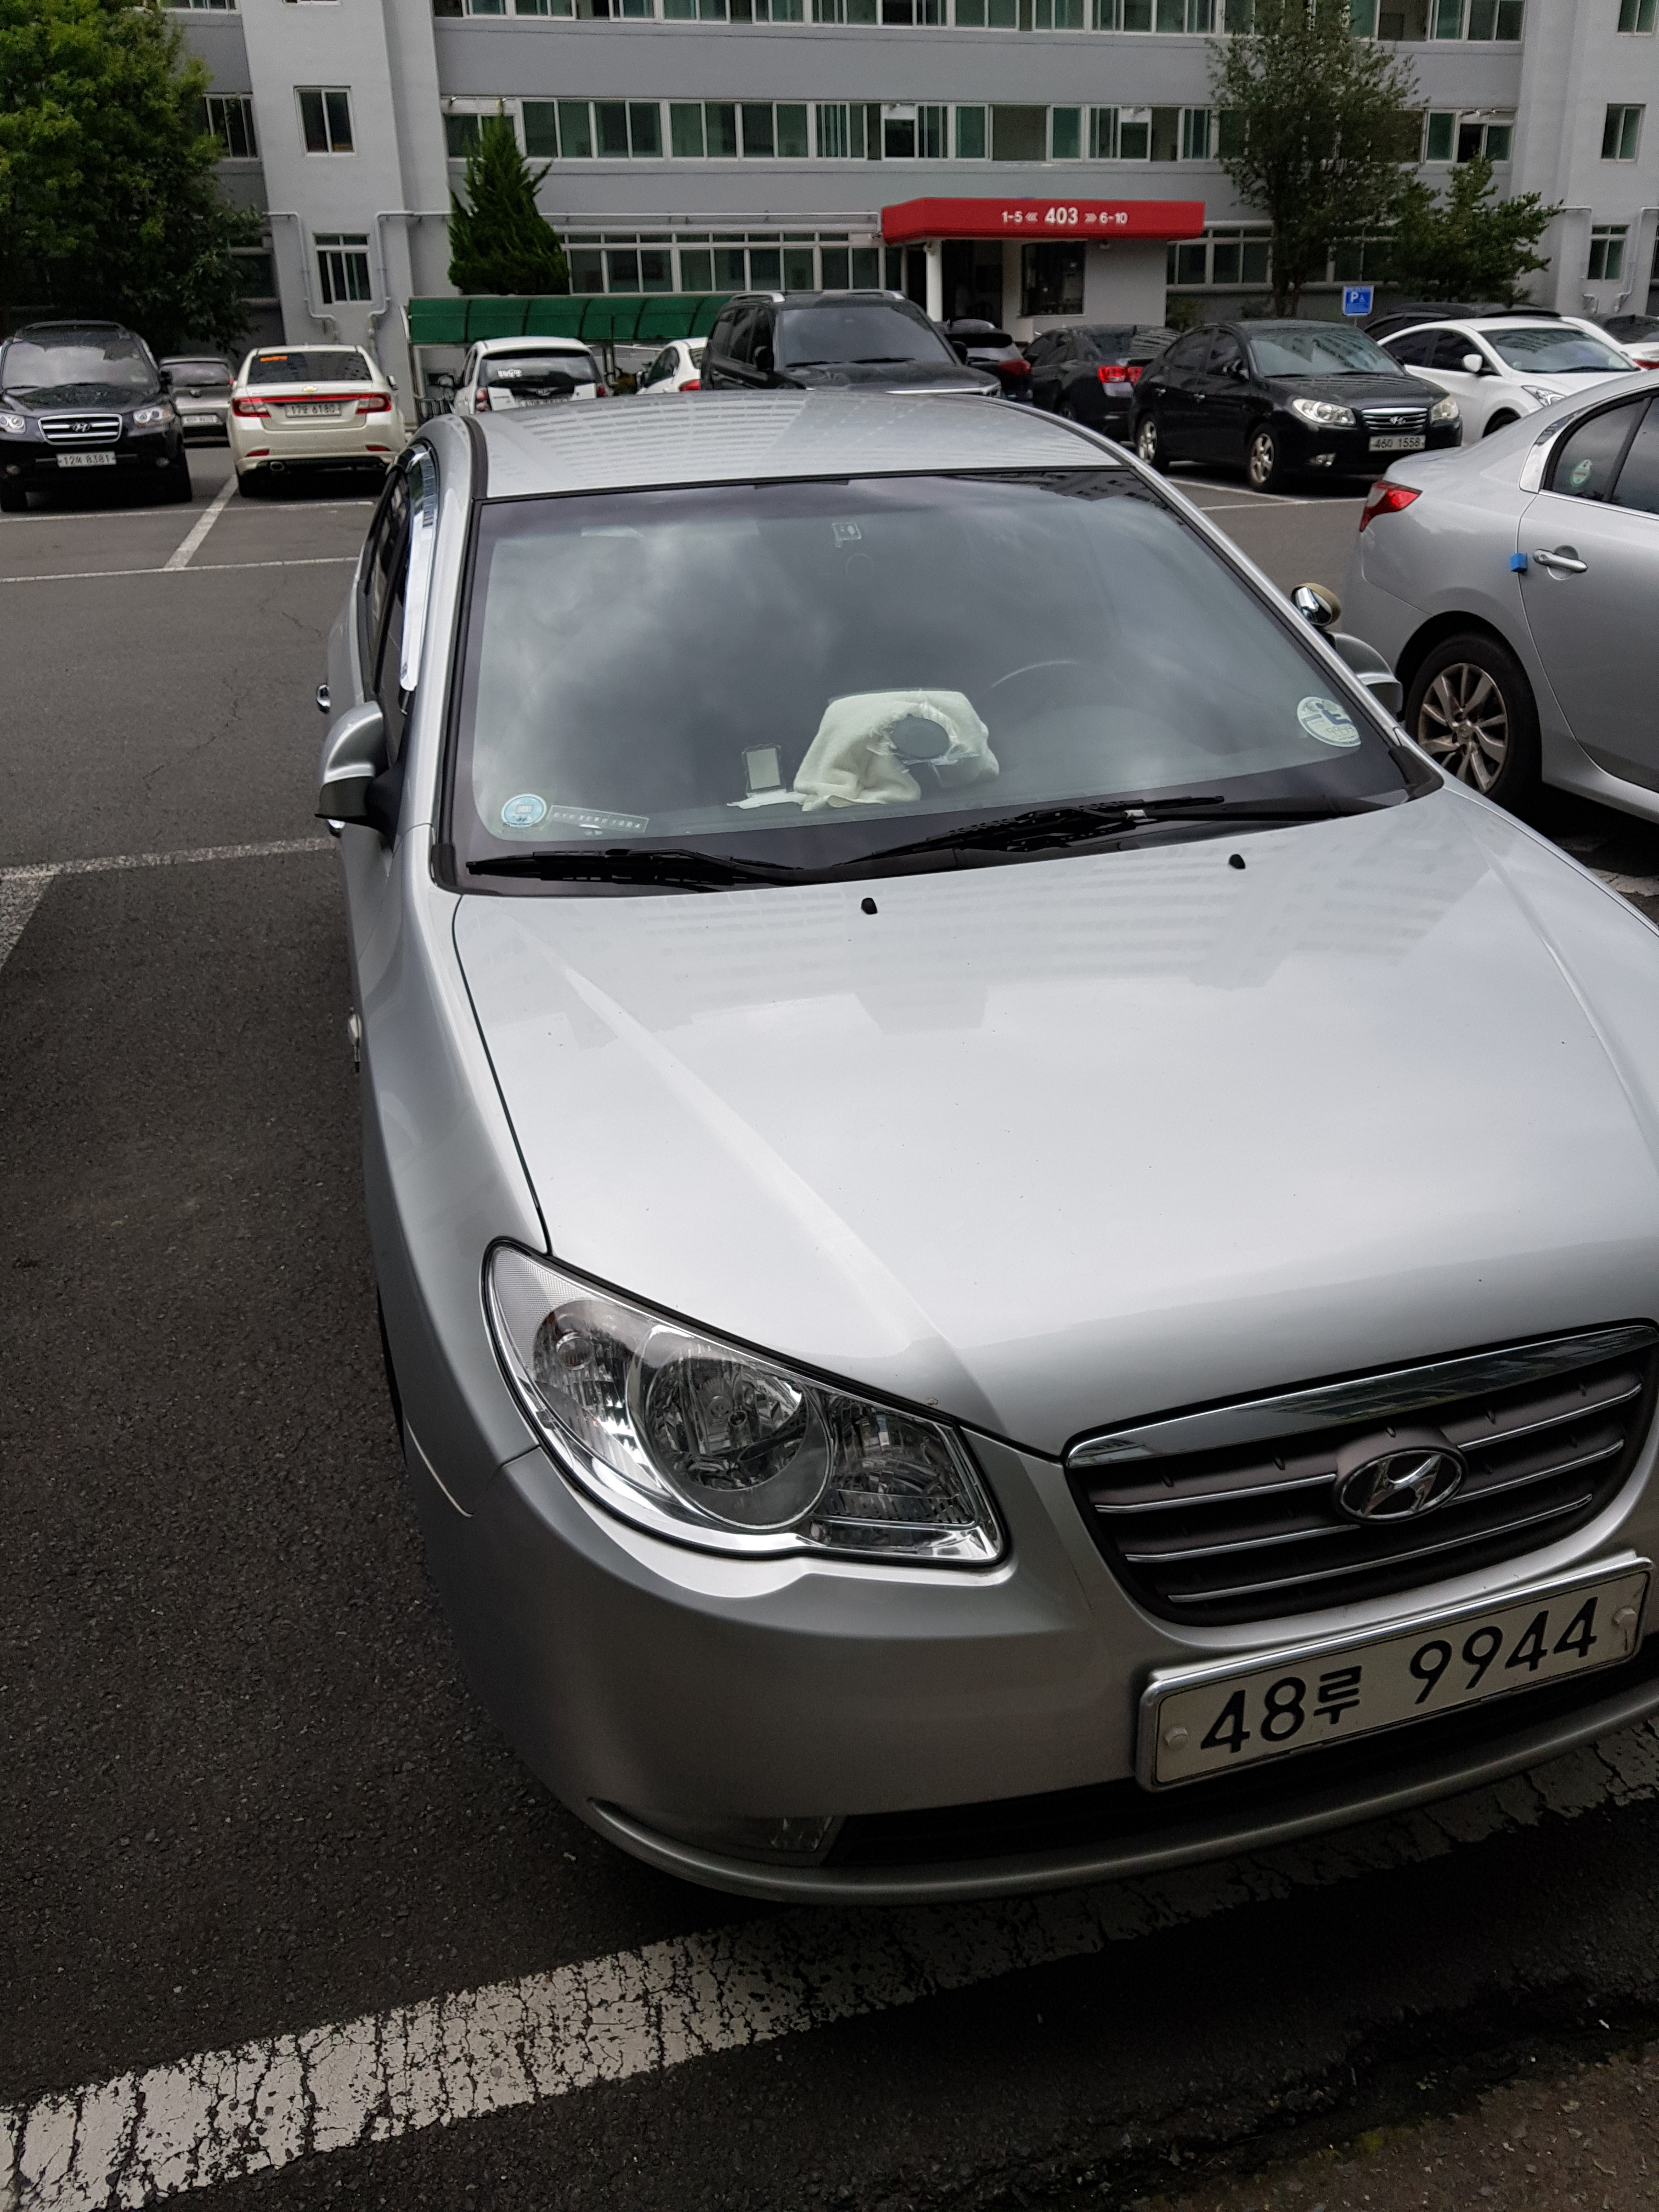apart_parking: (500, 789, 549, 827)
blackbox: (812, 512, 885, 596)
disabled_parking: (1298, 695, 1363, 754)
etc: (547, 799, 657, 840)
